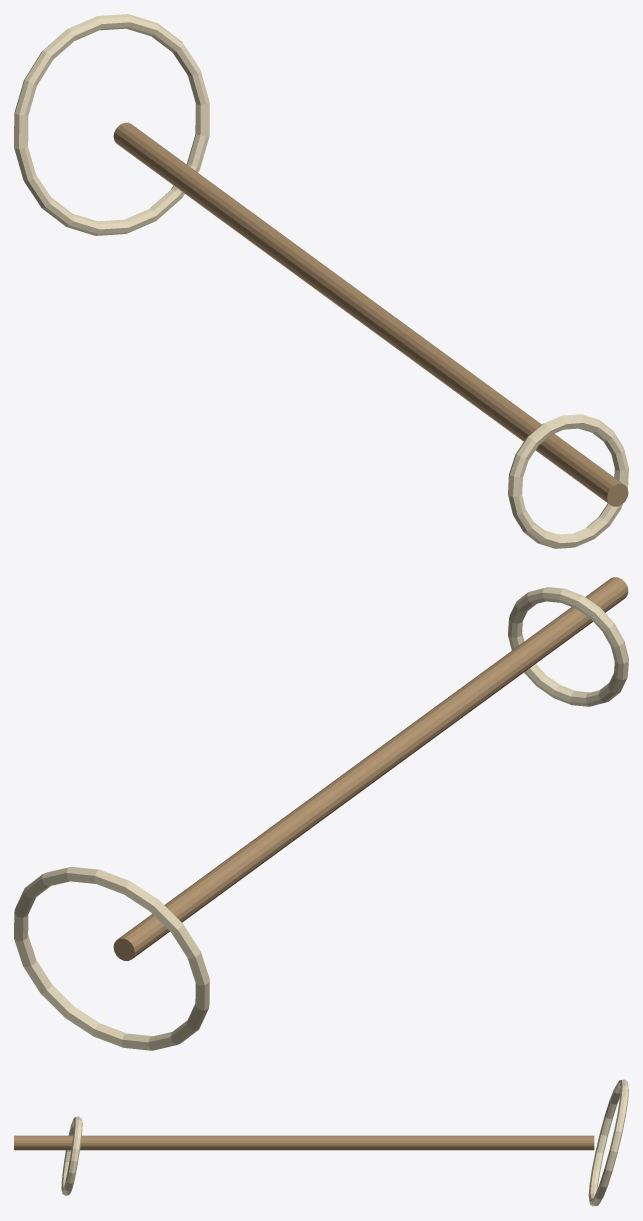
Rendered from snare.glb.
The picture shows the model from 3 angles, top to bottom: view 1: azimuth 30°, elevation 25°; view 2: azimuth 150°, elevation 25°; view 3: azimuth 270°, elevation 25°; orthographic projection. The views are drawn at different scales.
Visible parts, largest first — view 1: Cylinder, Torus.002, Torus.003; view 2: Cylinder, Torus.002, Torus.003; view 3: Cylinder, Torus.002, Torus.003.
Part boxes in pixels (<box>): Cylinder: <box>113,122,628,506</box>; Torus.002: <box>14,14,209,235</box>; Torus.003: <box>508,414,628,548</box>; Cylinder: <box>113,577,628,960</box>; Torus.002: <box>14,866,209,1050</box>; Torus.003: <box>508,587,628,706</box>; Cylinder: <box>14,1135,594,1150</box>; Torus.002: <box>588,1079,628,1206</box>; Torus.003: <box>61,1116,82,1195</box>.
Bounding box in the file's own units: 0.182 × 0.1758 × 0.8478.
